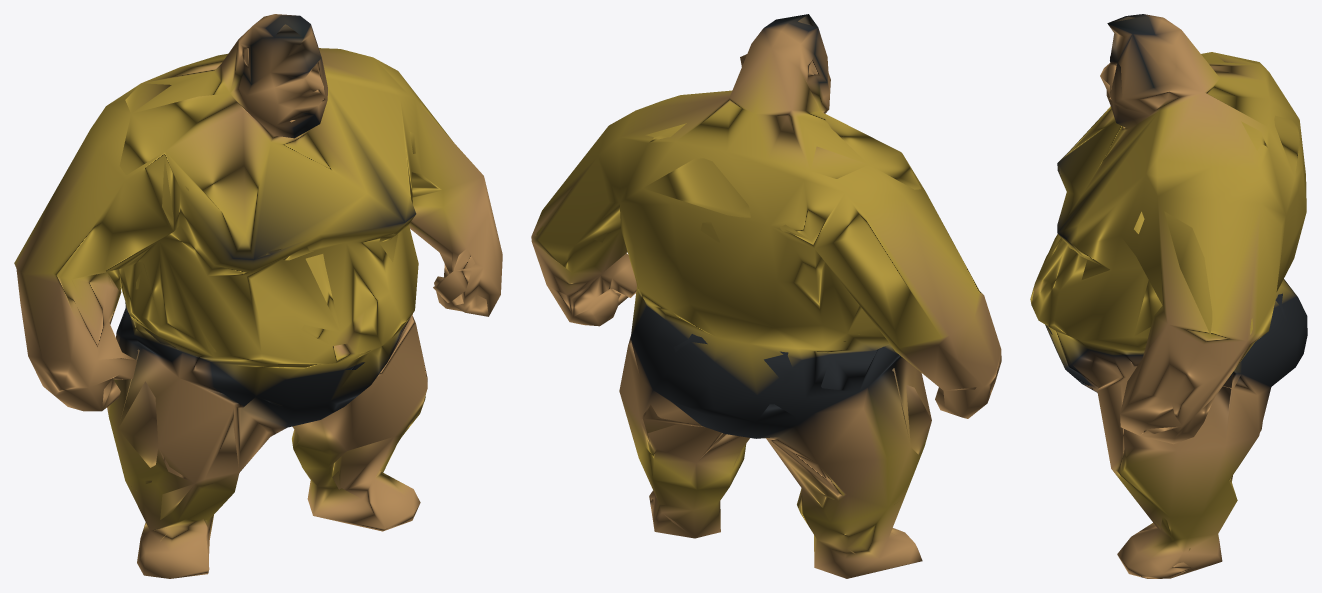
File: gen3d-sumo-lod1.glb
The picture shows the model from 3 angles, left to right: view 1: azimuth 30°, elevation 25°; view 2: azimuth 150°, elevation 25°; view 3: azimuth 270°, elevation 25°; orthographic projection. The views are drawn at different scales.
Parts seen in each view (by area): view 1: part_0; view 2: part_0; view 3: part_0.
Part boxes in pixels (box(x1,y1,x2,y2)): part_0: box(14, 14, 502, 578); part_0: box(531, 14, 1001, 578); part_0: box(1030, 14, 1307, 578).
Bounding box in the file's own units: 0.9045 × 0.9981 × 0.5004.
